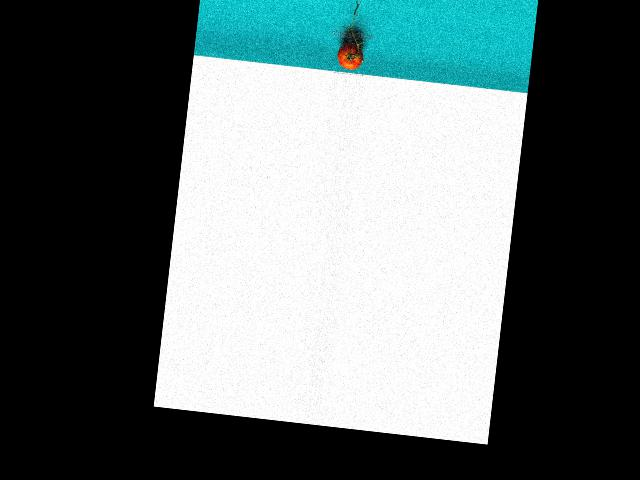tomato: (336, 42, 365, 70)
